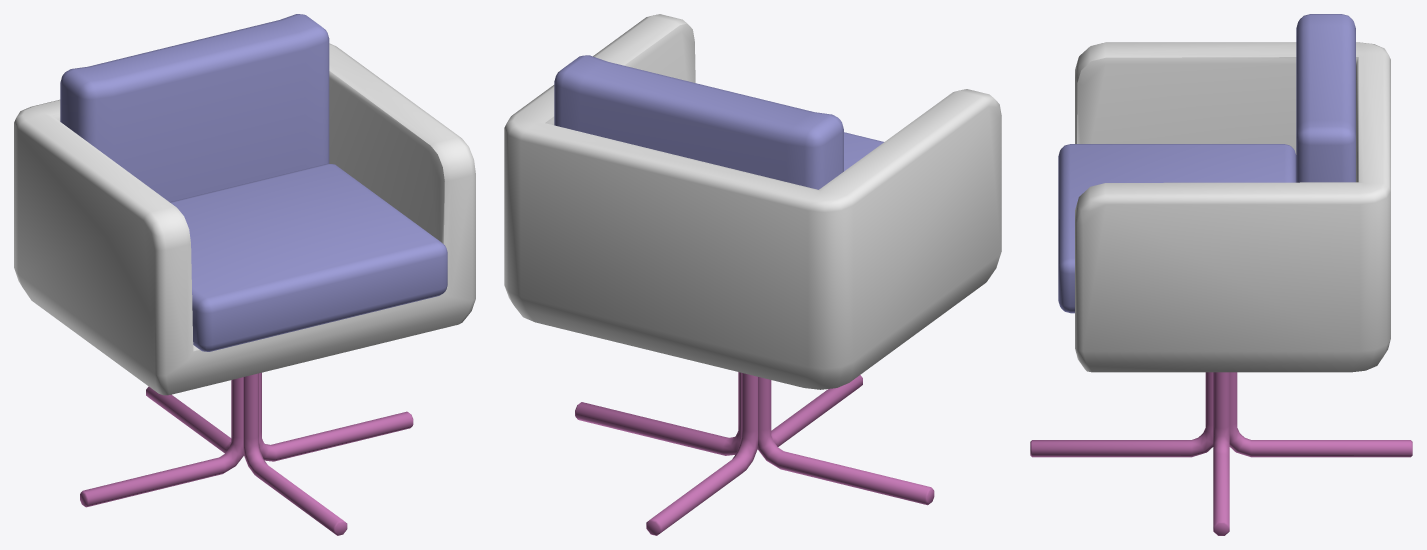
Rendered from GYzy0012.FBX.
The picture shows the model from 3 angles, left to right: view 1: azimuth 30°, elevation 25°; view 2: azimuth 150°, elevation 25°; view 3: azimuth 270°, elevation 25°; orthographic projection. The views are drawn at different scales.
Visible parts, largest first — view 1: GYzy0012; view 2: GYzy0012; view 3: GYzy0012.
Boxes of the visible parts, bbox=[...] form: GYzy0012: bbox=[14, 14, 475, 535]; GYzy0012: bbox=[504, 14, 1001, 535]; GYzy0012: bbox=[1030, 14, 1412, 535].
Size of the model in its own units: 62.05 by 62.05 by 69.
